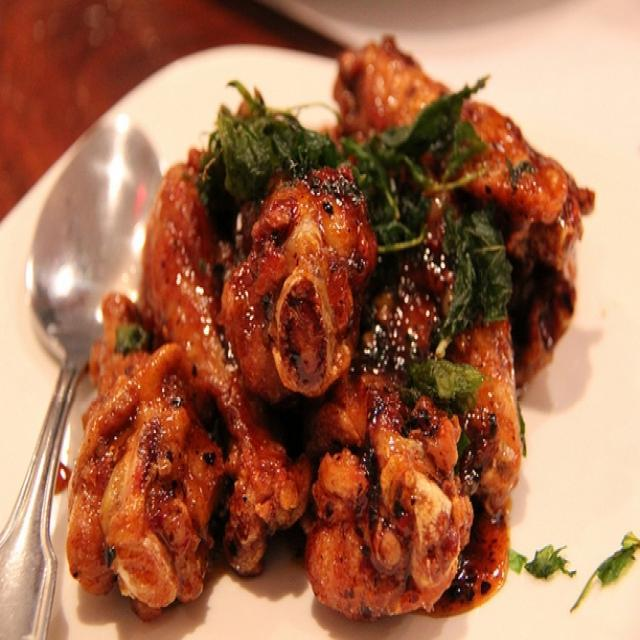Deep fried chicken wing: (88, 75, 562, 609)
